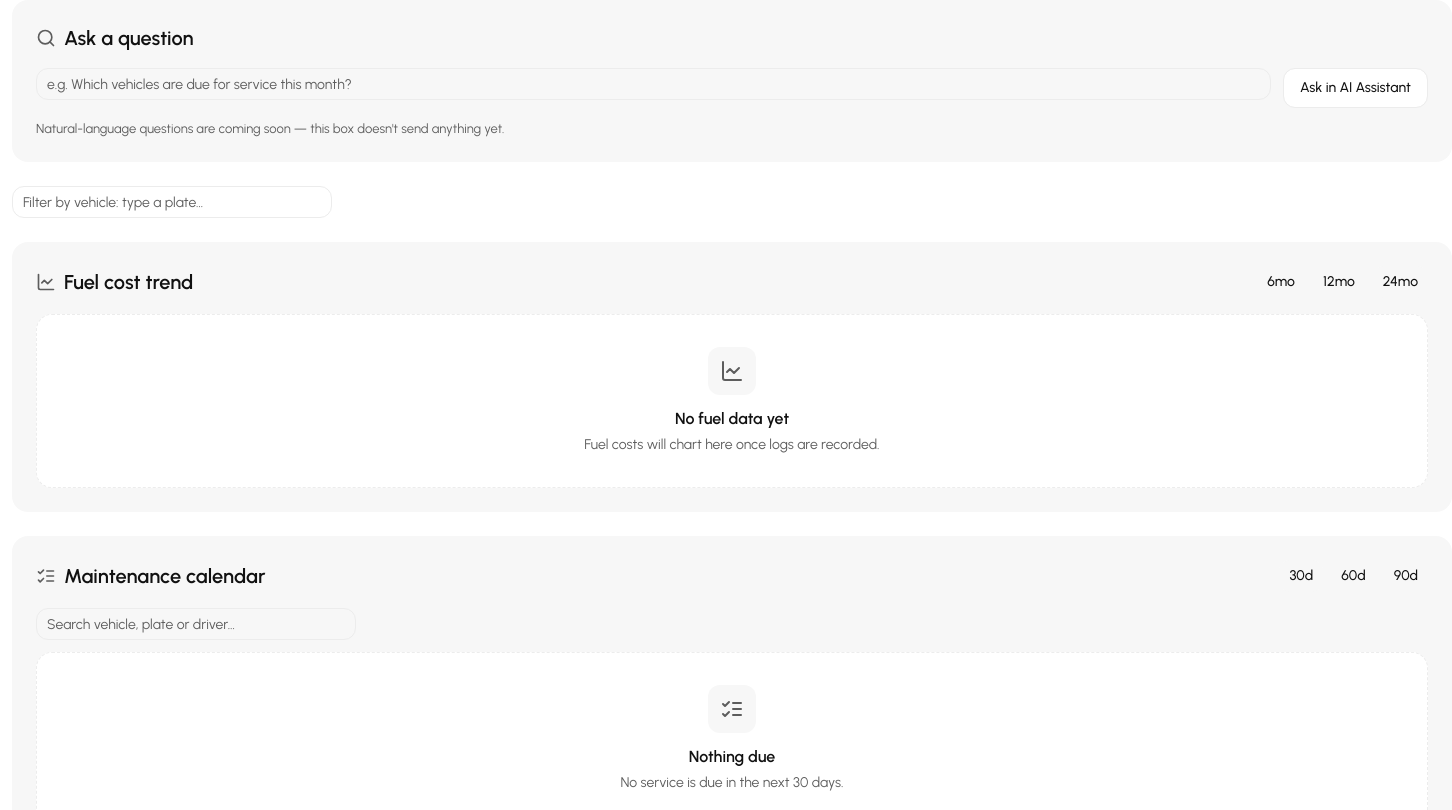
InsightsPage vehicle filter › says so for an unknown plate and keeps the whole fleet
Type "ZZ-0000" into the field labelled "Filter by vehicle" at (172, 202), box 12,186 -> 332,218
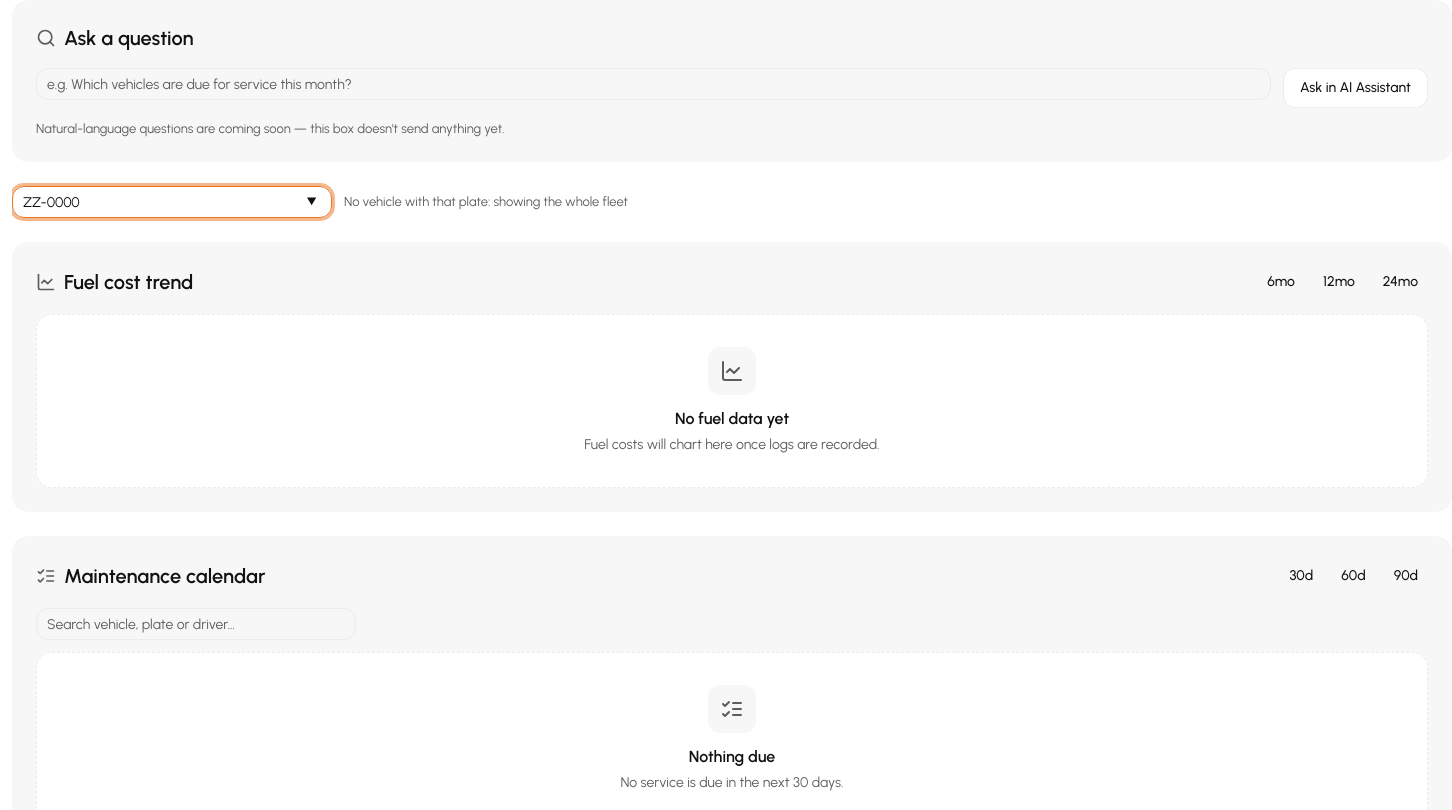
Result: the text "No vehicle with that plate: showing the whole fleet" is shown at 344,193 -> 628,211
